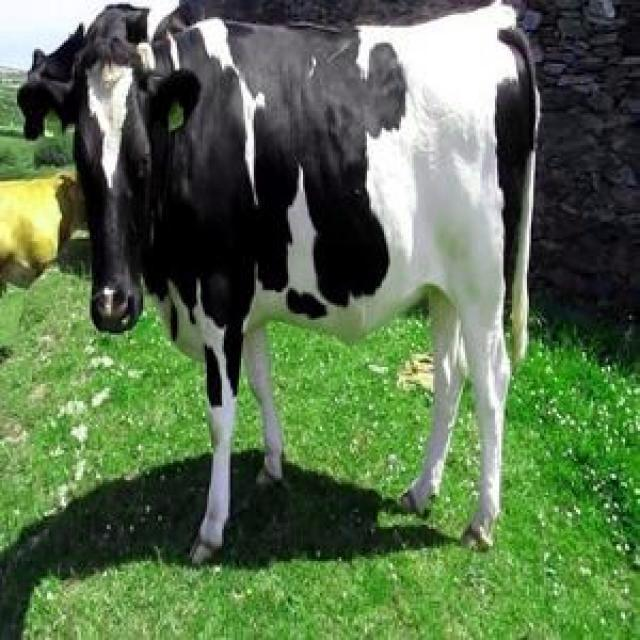cow: (19, 0, 536, 559)
